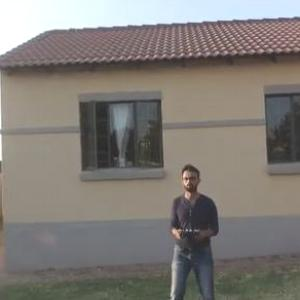follow: (168, 163, 227, 299)
